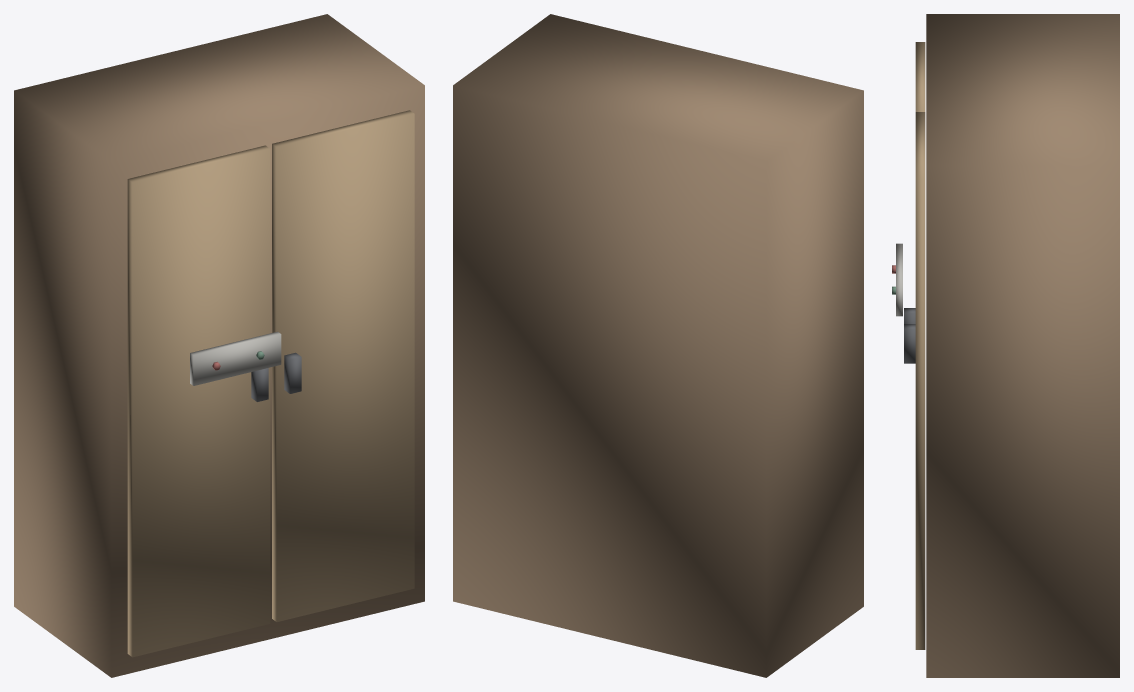
File: typesetter_drawer_cabinet__compact.glb
The picture shows the model from 3 angles, left to right: view 1: azimuth 30°, elevation 25°; view 2: azimuth 150°, elevation 25°; view 3: azimuth 270°, elevation 25°; orthographic projection.
Visible parts, largest first — view 1: world; view 2: world; view 3: world.
Boxes of the visible parts, bbox=[...] form: world: bbox=[14, 14, 424, 677]; world: bbox=[453, 14, 863, 677]; world: bbox=[892, 14, 1119, 677].
Size of the model in its own units: 0.798 by 1.26 by 0.5061.
